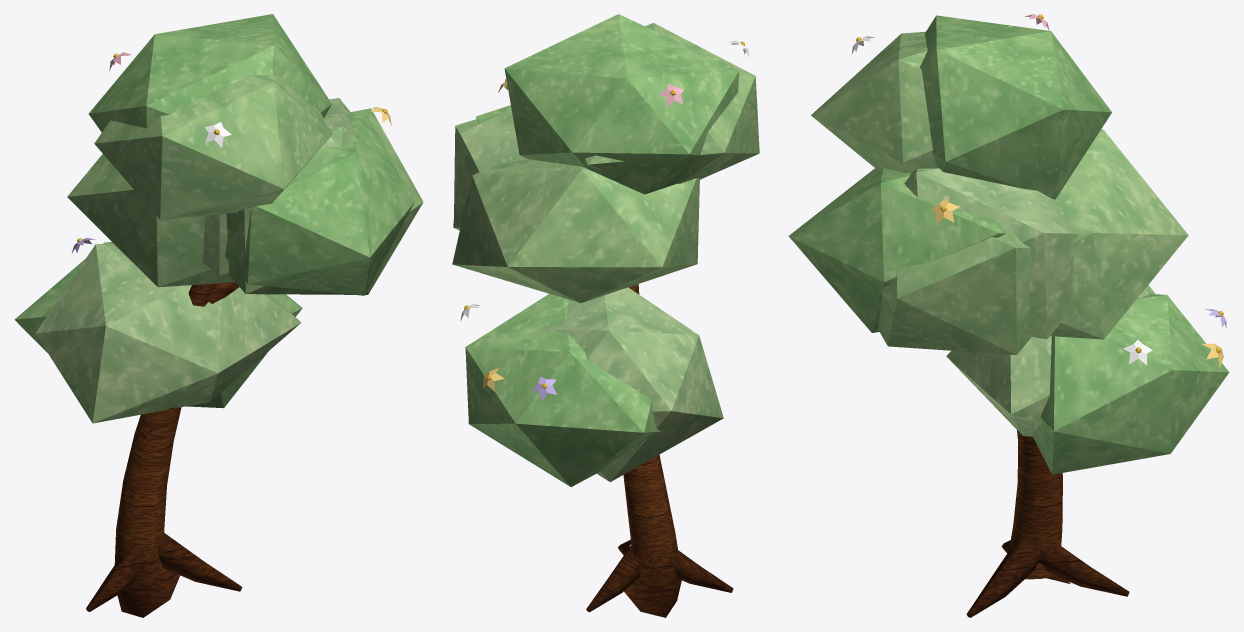
The model's file is tree_sky_a.glb.
The picture shows the model from 3 angles, left to right: view 1: azimuth 30°, elevation 25°; view 2: azimuth 150°, elevation 25°; view 3: azimuth 270°, elevation 25°; orthographic projection. The views are drawn at different scales.
Parts seen in each view (by area): view 1: tree_sky_a; view 2: tree_sky_a; view 3: tree_sky_a.
Part boxes in pixels (<box>): tree_sky_a: <box>14,14,423,617</box>; tree_sky_a: <box>452,14,759,617</box>; tree_sky_a: <box>788,14,1229,617</box>.
Size of the model in its own units: 2.88 by 5.48 by 3.63.
3 materials, 2 textured.
